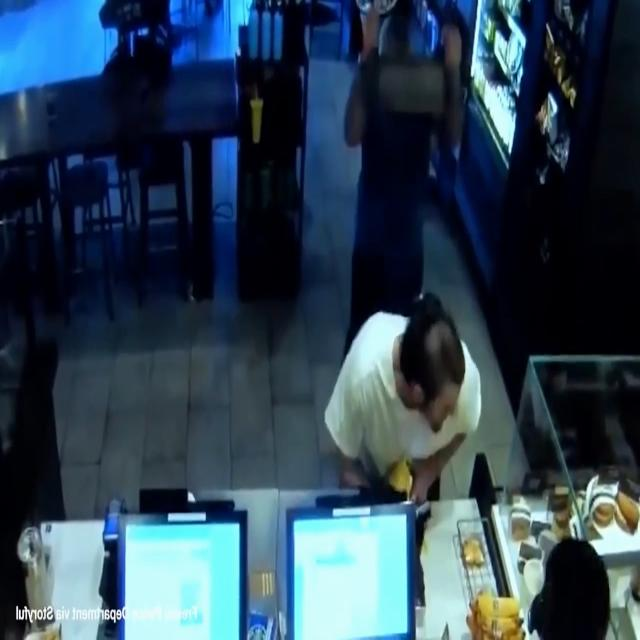fight: (271, 1, 501, 301)
